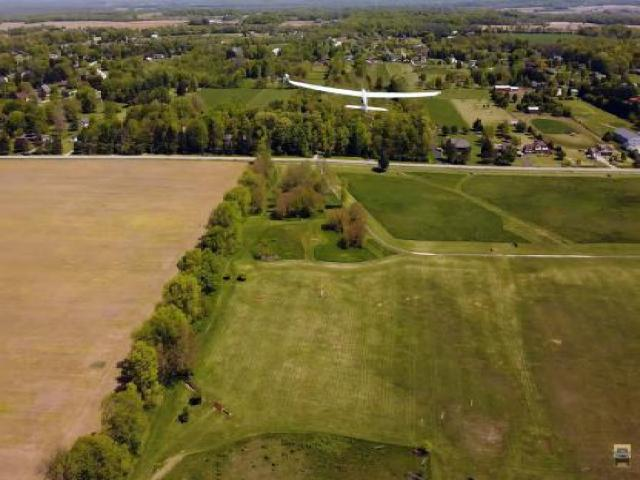uav: (278, 62, 447, 118)
